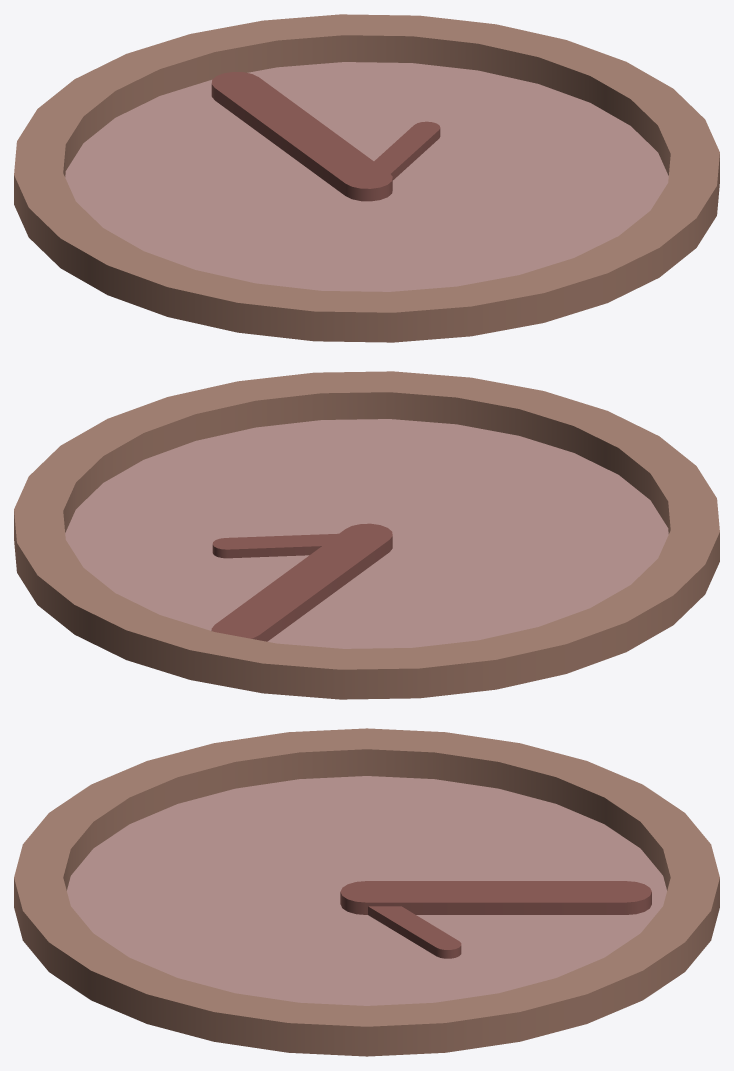
Rendered from Clock.fbx.
The picture shows the model from 3 angles, top to bottom: view 1: azimuth 30°, elevation 25°; view 2: azimuth 150°, elevation 25°; view 3: azimuth 270°, elevation 25°; orthographic projection.
Parts seen in each view (by area): view 1: Clock; view 2: Clock; view 3: Clock.
Boxes of the visible parts, box(x1,y1,x2,y2) form: Clock: box(14, 14, 719, 342); Clock: box(14, 371, 719, 699); Clock: box(14, 728, 719, 1056).
Bounding box in the file's own units: 0.8977 × 0.043 × 0.8977.
